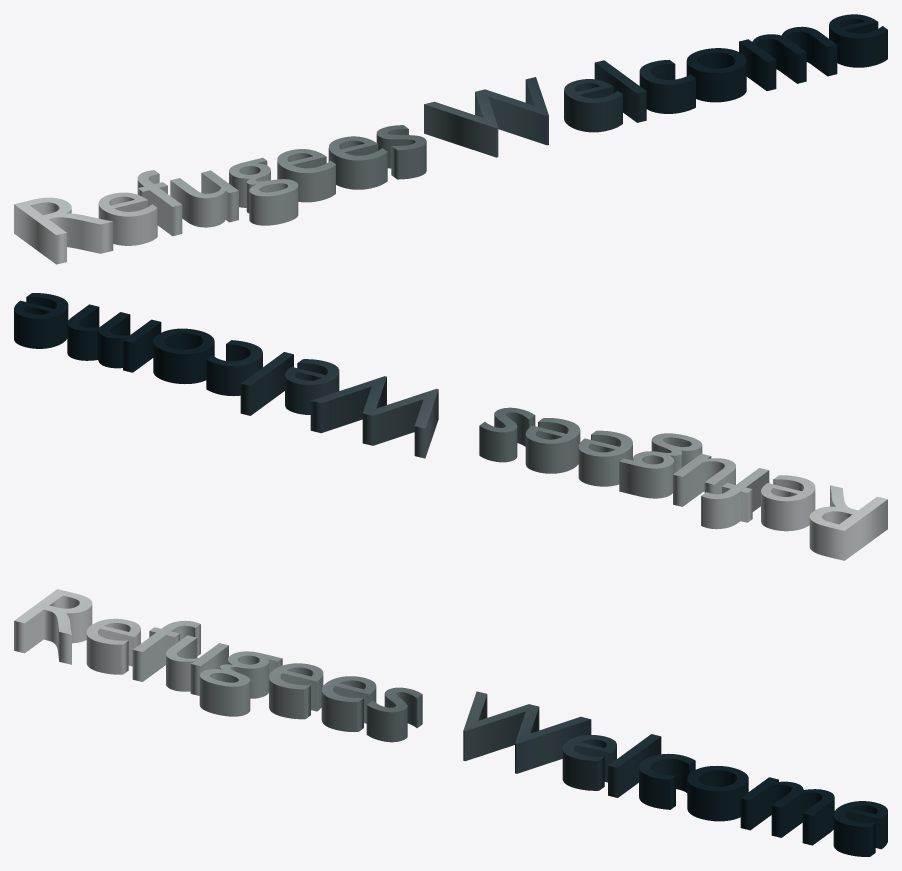
3 renders of one model, top to bottom at view 1: azimuth 30°, elevation 25°; view 2: azimuth 150°, elevation 25°; view 3: azimuth 330°, elevation 25°, orthographic. The views are drawn at different scales.
Visible parts, largest first — view 1: 文字.001; view 2: 文字.001; view 3: 文字.001.
Boxes of the visible parts, x1=… form: 文字.001: x1=14, y1=14, x2=887, y2=264; 文字.001: x1=14, y1=293, x2=887, y2=560; 文字.001: x1=14, y1=589, x2=887, y2=856.
Size of the model in its own units: 7.75 by 0.26 by 0.9214.
Materials: 1 (1 with a texture image).
